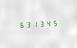five: (53, 19, 59, 26)
four: (46, 19, 52, 27)
one: (32, 20, 38, 28)
six: (17, 21, 23, 28)
three: (24, 20, 30, 28), (39, 19, 45, 27)
